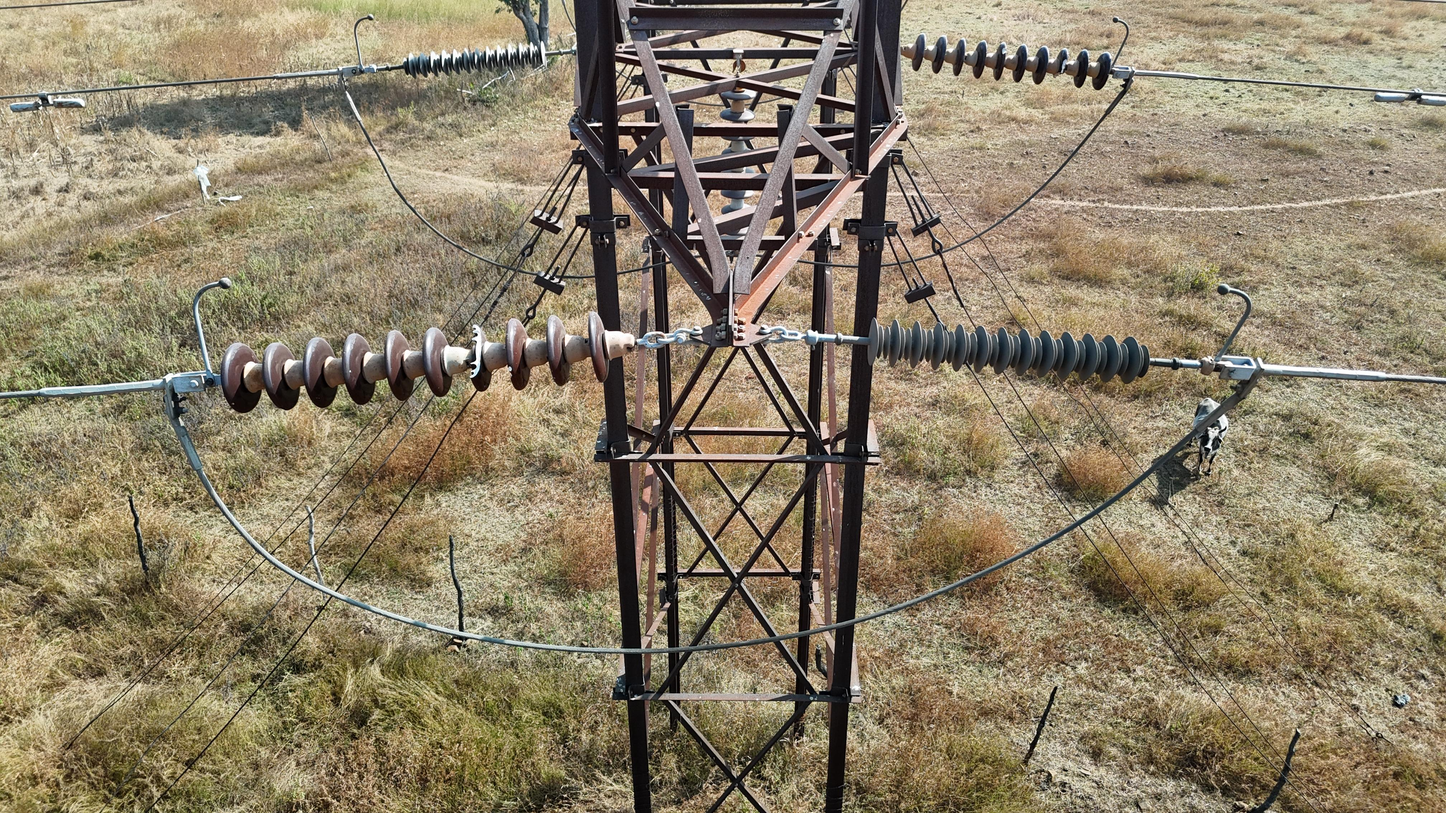broken_insulator: (462, 320, 497, 397), (1052, 48, 1069, 82), (993, 42, 1007, 81)
